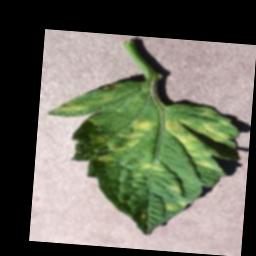Leaf_Mold: (161, 114, 237, 172), (90, 115, 154, 165), (53, 100, 86, 115), (164, 199, 190, 213), (140, 161, 165, 173)
